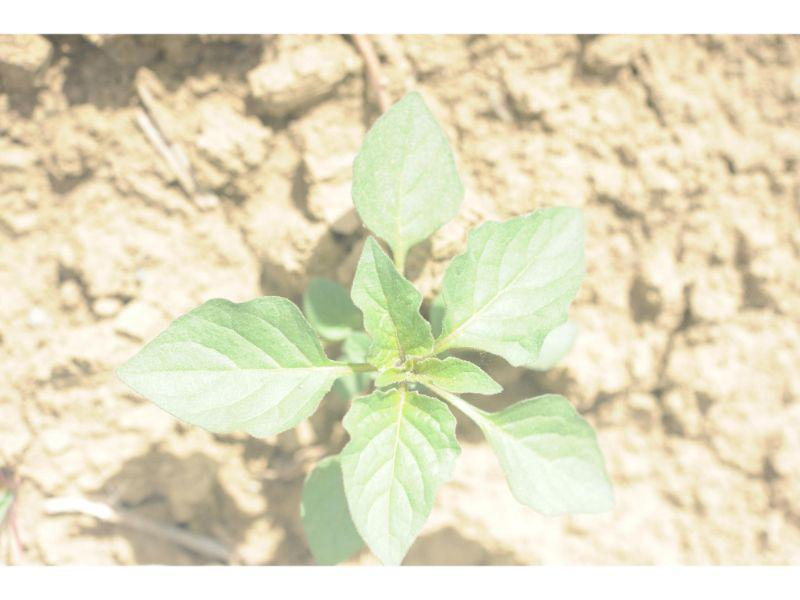nightshade: (113, 89, 612, 564)
